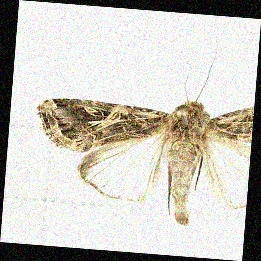Spodoptera litura: (35, 27, 253, 223)
